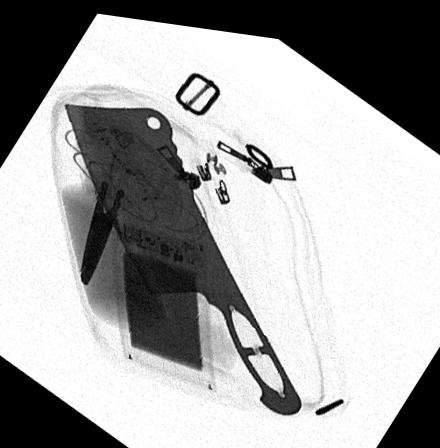Knife: (61, 97, 303, 407)
Powerbank: (111, 213, 214, 385)
Scissors: (74, 124, 169, 283)
